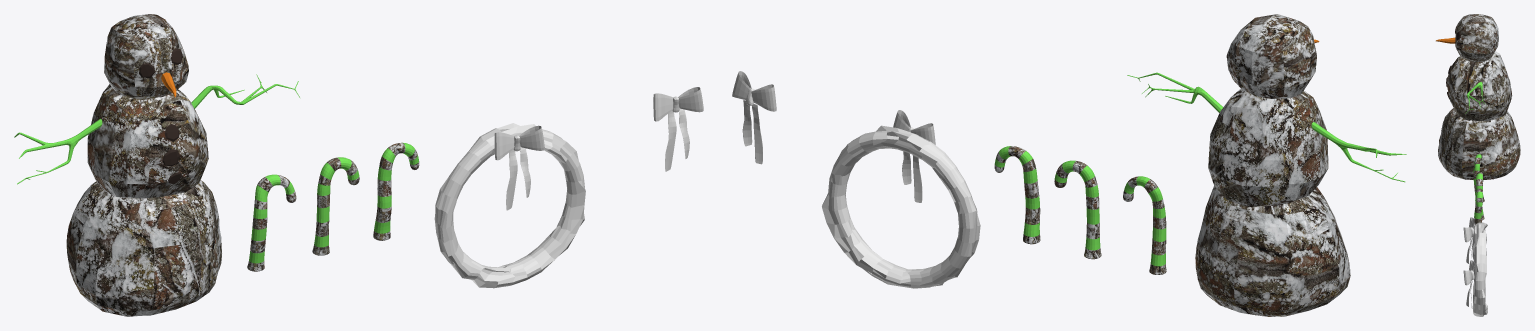
The model's file is Christmas.fbx.
3 views of the same model, side by side, from view 1: azimuth 30°, elevation 25°; view 2: azimuth 150°, elevation 25°; view 3: azimuth 270°, elevation 25° (orthographic). The views are drawn at different scales.
Parts seen in each view (by area): view 1: SnowMan, Torus, Tie.001, Tie, Candy_0, Candy_2, Candy_1; view 2: SnowMan, Torus, Candy_2, Candy_1, Tie, Candy_0, Tie.001; view 3: SnowMan, Torus, Tie, Candy_2, Tie.001, Candy_0, Candy_1.
Part boxes in pixels (left/top/right/bottom): SnowMan: left=14, top=14, right=299, bottom=316; Torus: left=434, top=123, right=585, bottom=288; Tie.001: left=494, top=125, right=544, bottom=210; Tie: left=653, top=87, right=703, bottom=171; Candy_0: left=247, top=174, right=296, bottom=271; Candy_2: left=373, top=142, right=419, bottom=240; Candy_1: left=312, top=157, right=359, bottom=255; SnowMan: left=1127, top=14, right=1406, bottom=316; Torus: left=822, top=125, right=980, bottom=288; Candy_2: left=994, top=146, right=1040, bottom=244; Candy_1: left=1054, top=160, right=1101, bottom=259; Tie: left=732, top=71, right=776, bottom=164; Candy_0: left=1123, top=176, right=1166, bottom=274; Tie.001: left=893, top=110, right=935, bottom=202; SnowMan: left=1436, top=14, right=1520, bottom=179; Torus: left=1471, top=222, right=1487, bottom=316; Tie: left=1463, top=260, right=1474, bottom=308; Candy_2: left=1474, top=188, right=1482, bottom=224; Tie.001: left=1463, top=217, right=1474, bottom=263; Candy_0: left=1473, top=154, right=1484, bottom=202; Candy_1: left=1475, top=172, right=1484, bottom=220.
Size of the model in its own units: 2111 by 1056 by 413.
